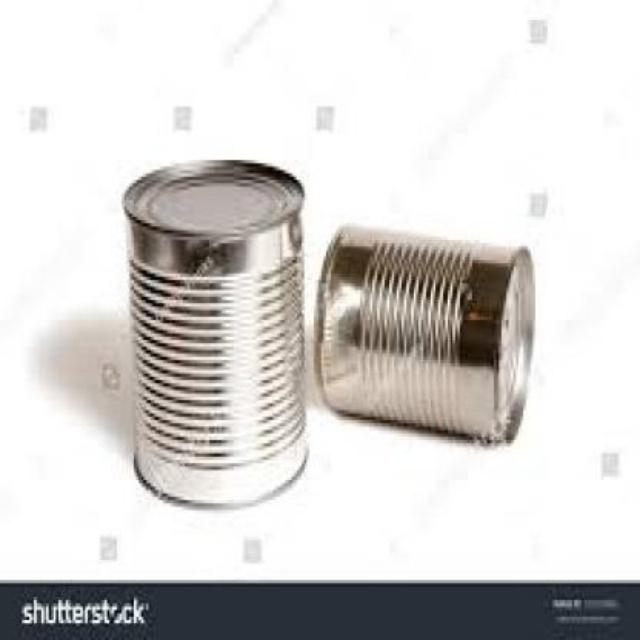trash: (123, 160, 306, 503), (315, 226, 532, 442)
